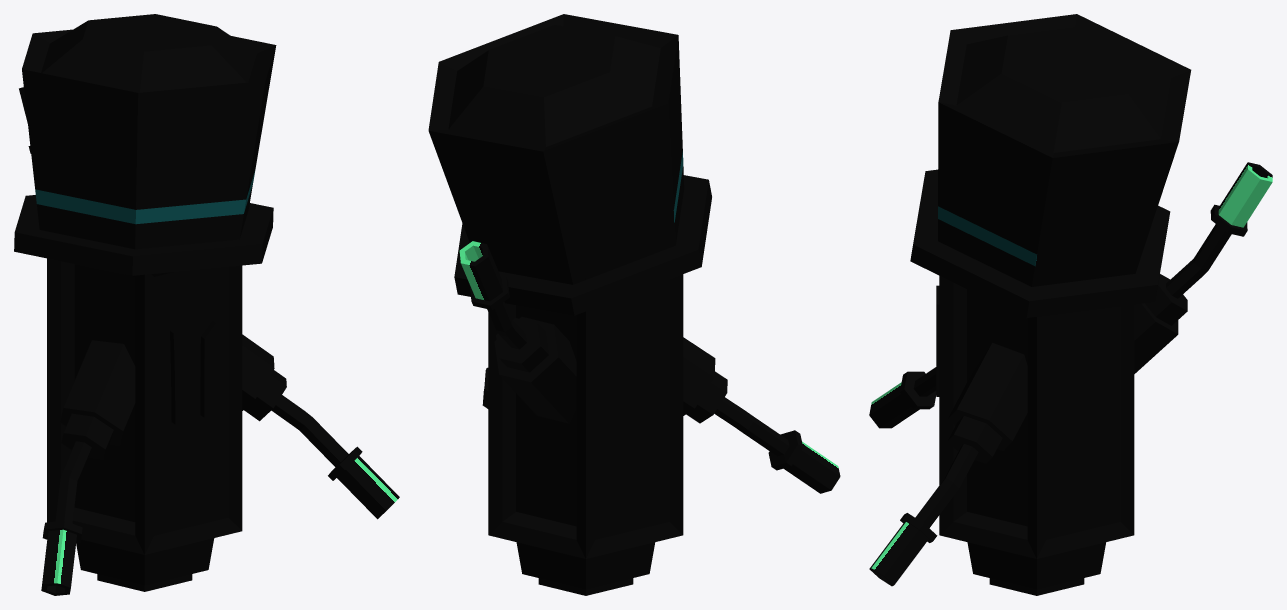
Rendered from no touch.fbx.
3 renders of one model, left to right at view 1: azimuth 30°, elevation 25°; view 2: azimuth 150°, elevation 25°; view 3: azimuth 270°, elevation 25°, orthographic.
Visible parts, largest first — view 1: Cube.018; view 2: Cube.018; view 3: Cube.018.
Part boxes in pixels (left/top/right/bottom): Cube.018: left=14, top=14, right=399, bottom=595; Cube.018: left=428, top=14, right=840, bottom=595; Cube.018: left=869, top=14, right=1272, bottom=595.
Size of the model in its own units: 448 by 636 by 439.
